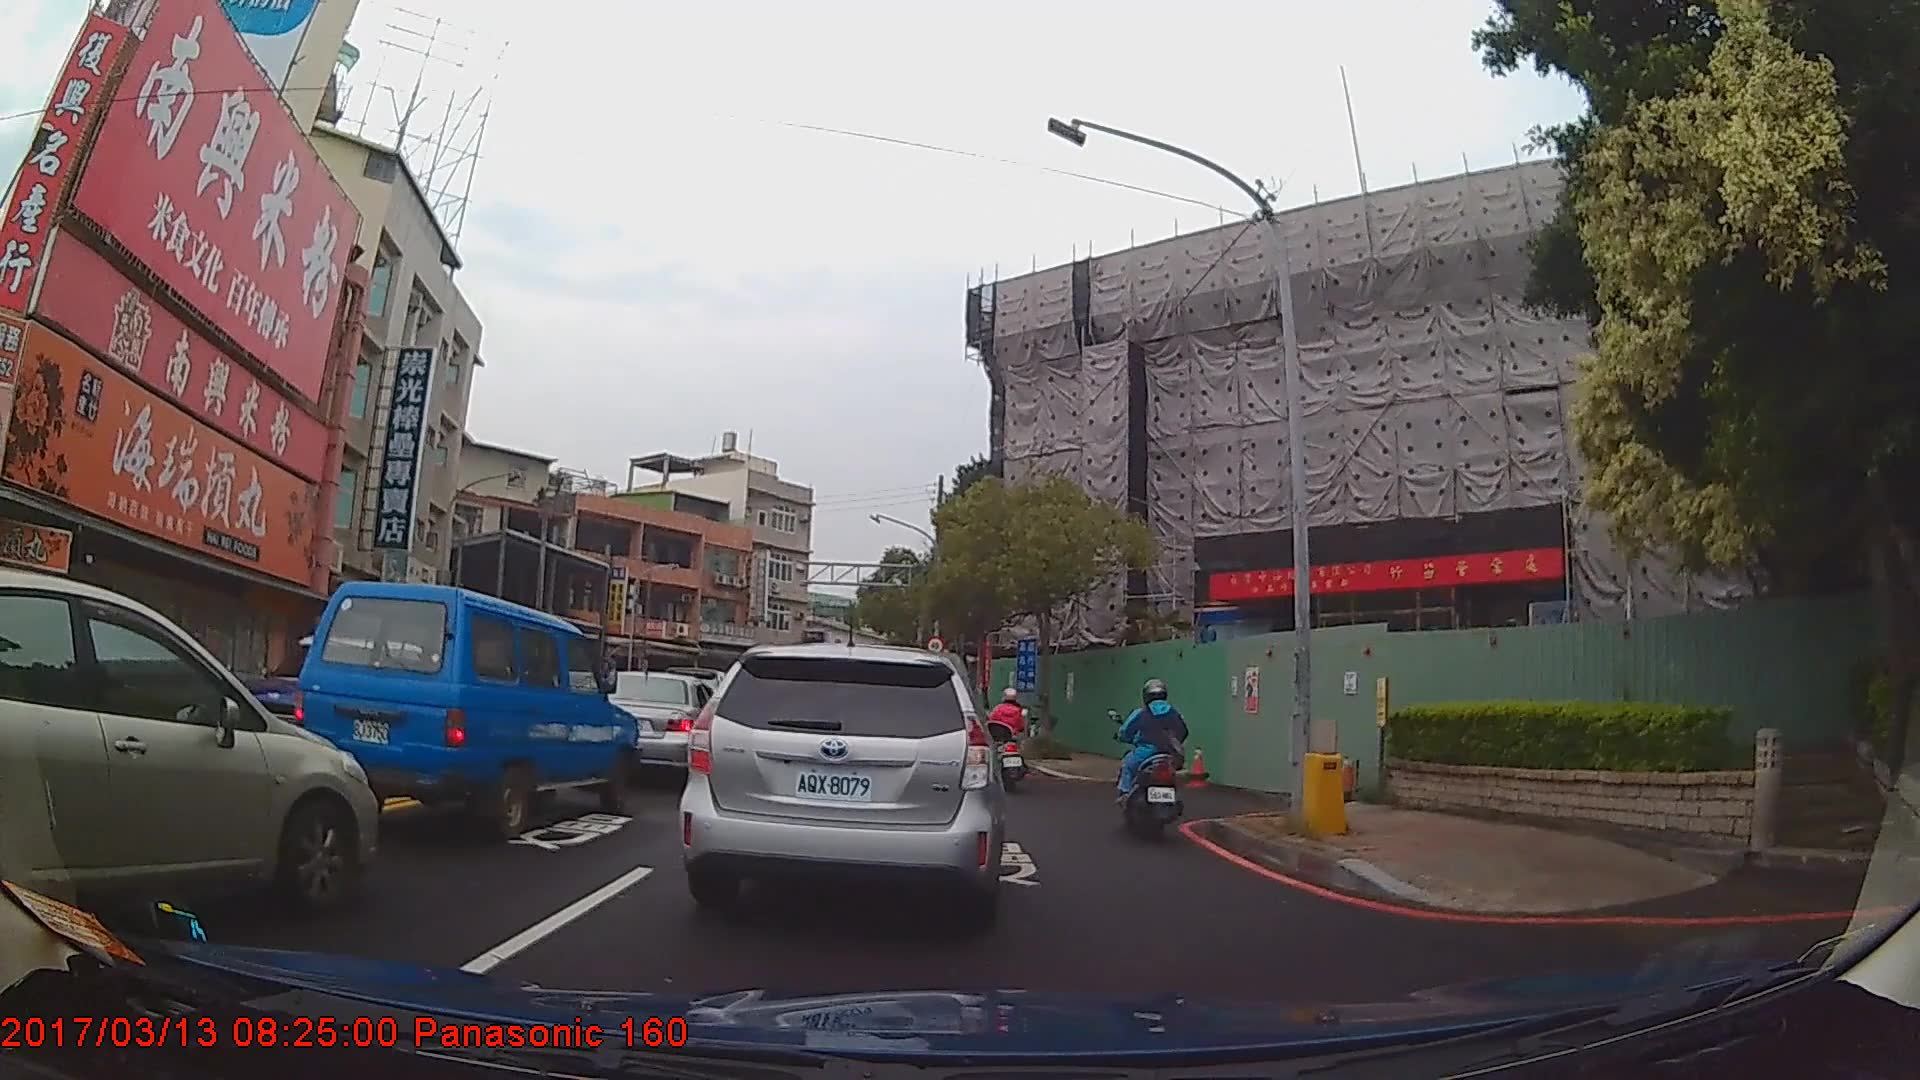rider: (1116, 679, 1189, 842), (987, 686, 1036, 794)
vehicle: (0, 565, 376, 937), (676, 639, 1005, 932), (289, 578, 639, 834), (588, 667, 724, 794)
